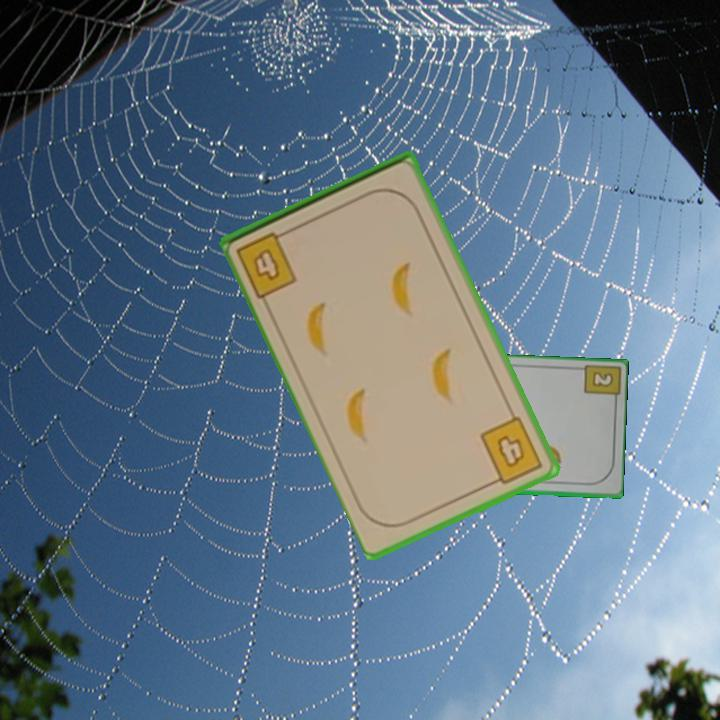2b: (588, 368, 616, 390)
4b: (476, 412, 546, 489), (232, 226, 301, 301)
